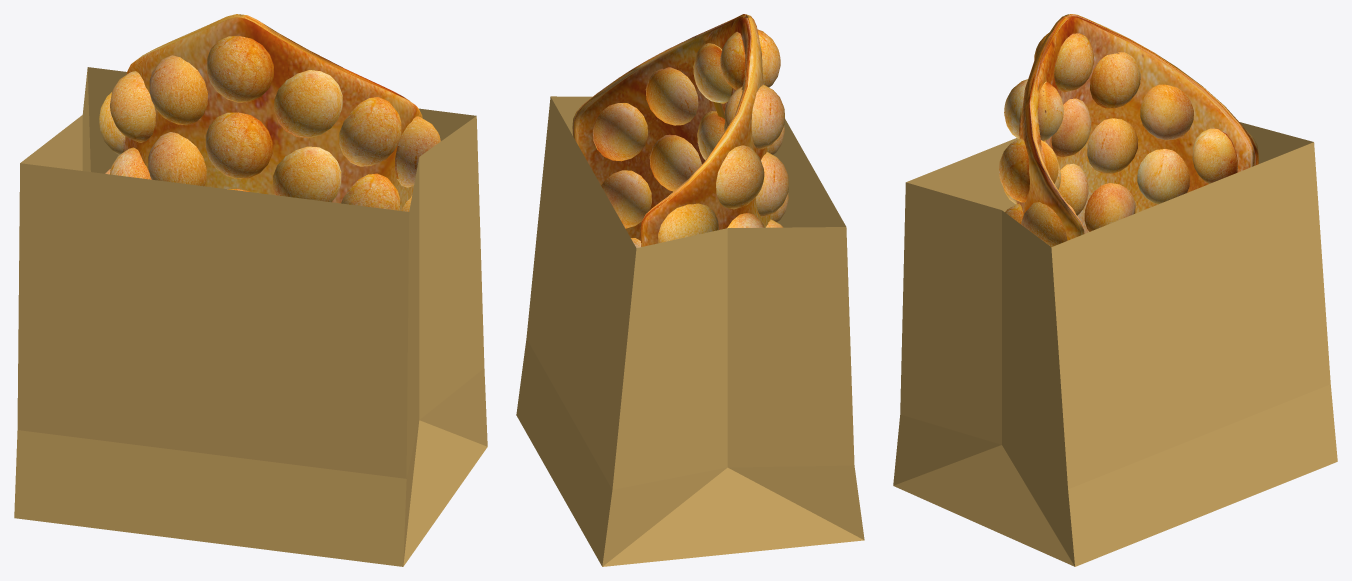
The model's file is eggwaffle.glb.
3 views of the same model, side by side, from view 1: azimuth 30°, elevation 25°; view 2: azimuth 150°, elevation 25°; view 3: azimuth 270°, elevation 25° (orthographic). The views are drawn at different scales.
Parts seen in each view (by area): view 1: Cube, Cylinder; view 2: Cube, Cylinder; view 3: Cube, Cylinder.
Part boxes in pixels (x1,y1,x2,y2): Cube: [14, 67, 487, 566]; Cylinder: [99, 14, 440, 211]; Cube: [516, 96, 864, 566]; Cylinder: [572, 14, 788, 247]; Cube: [893, 122, 1337, 566]; Cylinder: [999, 14, 1258, 246].
Bounding box in the file's own units: 1.83 × 2.03 × 1.85.
Materials: 2 (1 with a texture image).
